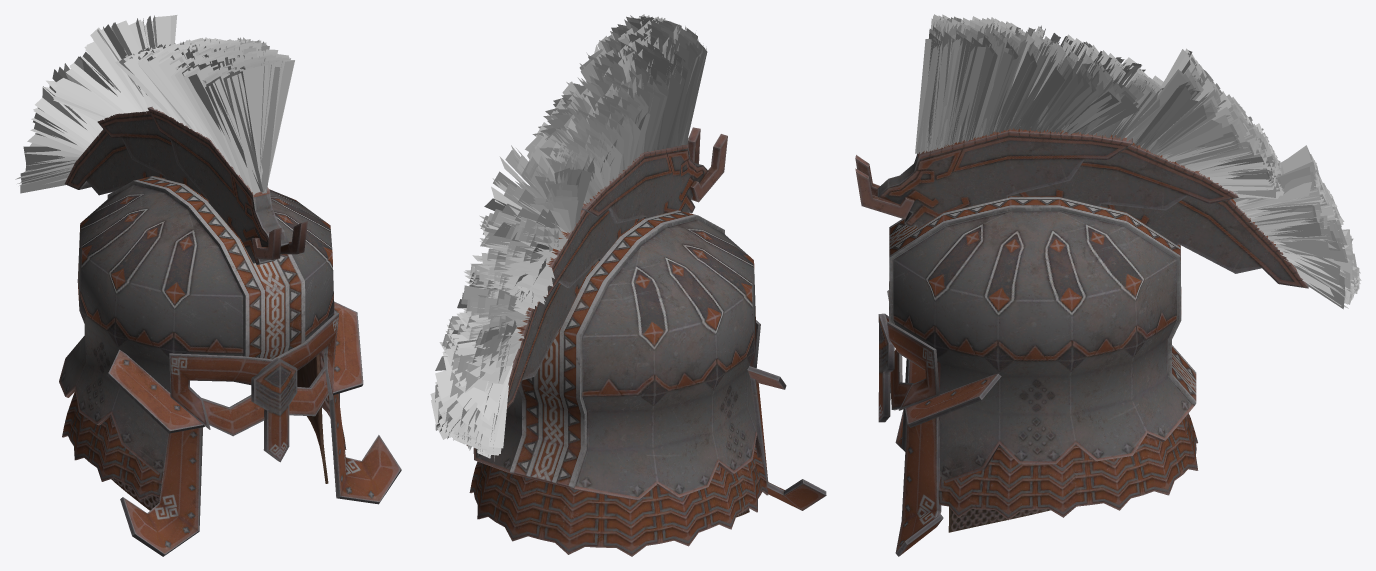
File: sk_dwarf_dain_helmet_heavy_b.fbx
The picture shows the model from 3 angles, left to right: view 1: azimuth 30°, elevation 25°; view 2: azimuth 150°, elevation 25°; view 3: azimuth 270°, elevation 25°; orthographic projection. The views are drawn at different scales.
Parts seen in each view (by area): view 1: sk_dwarf_dain_helmet_heavy_b.0, sk_dwarf_dain_helmet_heavy_b.1; view 2: sk_dwarf_dain_helmet_heavy_b.0, sk_dwarf_dain_helmet_heavy_b.1; view 3: sk_dwarf_dain_helmet_heavy_b.0, sk_dwarf_dain_helmet_heavy_b.1.
Boxes of the visible parts, box(x1,y1,x2,y2) form: sk_dwarf_dain_helmet_heavy_b.0: box(59, 106, 401, 556); sk_dwarf_dain_helmet_heavy_b.1: box(15, 15, 294, 194); sk_dwarf_dain_helmet_heavy_b.0: box(466, 127, 826, 556); sk_dwarf_dain_helmet_heavy_b.1: box(430, 14, 707, 461); sk_dwarf_dain_helmet_heavy_b.0: box(855, 128, 1308, 556); sk_dwarf_dain_helmet_heavy_b.1: box(915, 14, 1361, 309).
Bounding box in the file's own units: 0.3165 × 0.4875 × 0.5089.
